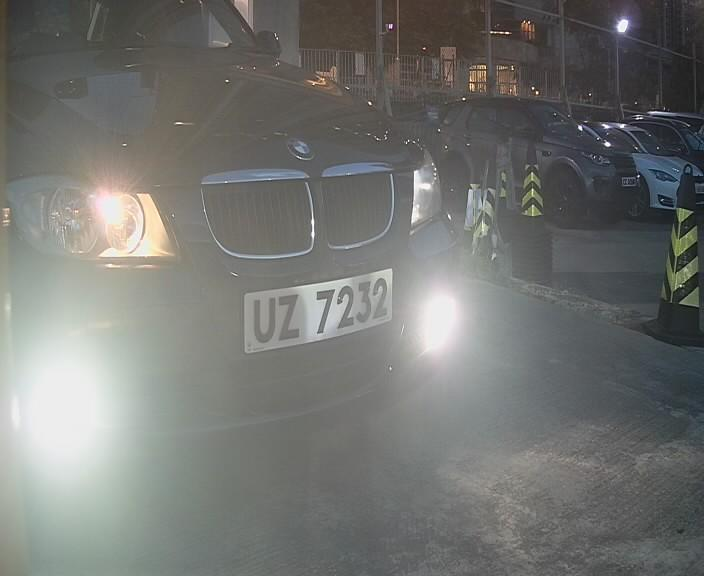Car: (23, 13, 607, 505)
License Plate: (231, 264, 407, 358)
